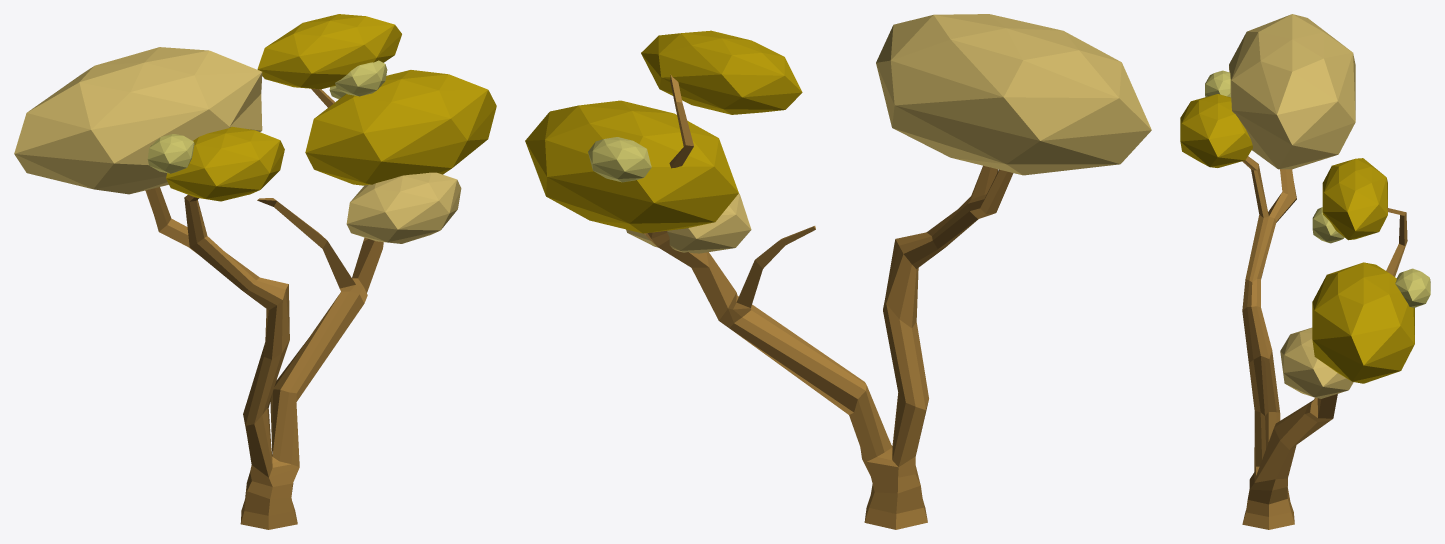
The model's file is fbxdeadsavannahtree.fbx.
3 renders of one model, left to right at view 1: azimuth 30°, elevation 25°; view 2: azimuth 150°, elevation 25°; view 3: azimuth 270°, elevation 25°, orthographic. The views are drawn at different scales.
Visible parts, largest first — view 1: pCylinder66; view 2: pCylinder66; view 3: pCylinder66.
Boxes of the visible parts, <box> form: pCylinder66: <box>14,14,496,529</box>; pCylinder66: <box>525,14,1151,529</box>; pCylinder66: <box>1180,14,1430,529</box>.
Bounding box in the file's own units: 43.53 × 37.66 × 19.89.
